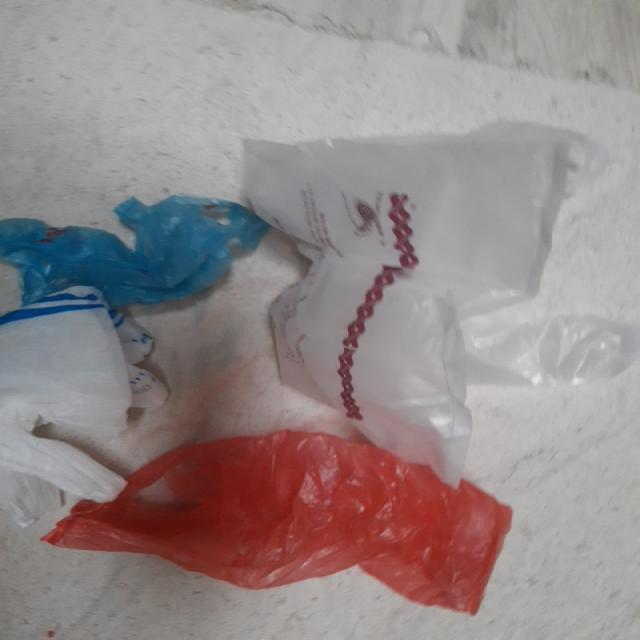Single-layer Plastic: (245, 124, 640, 484), (44, 430, 511, 613), (0, 286, 168, 526), (0, 195, 269, 306)
